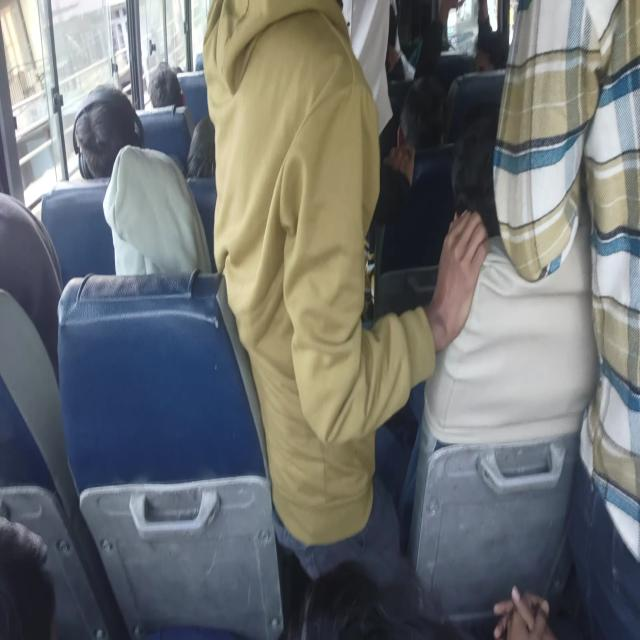person: (200, 0, 490, 589), (405, 112, 598, 625), (491, 1, 639, 636), (72, 83, 212, 276), (72, 84, 145, 180), (450, 115, 502, 238), (186, 115, 215, 178), (147, 63, 184, 109)
